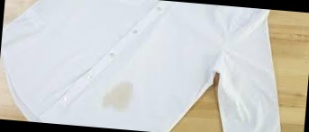coffee: (102, 79, 136, 112)
